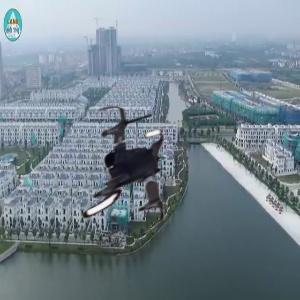drone: (47, 102, 190, 245)
